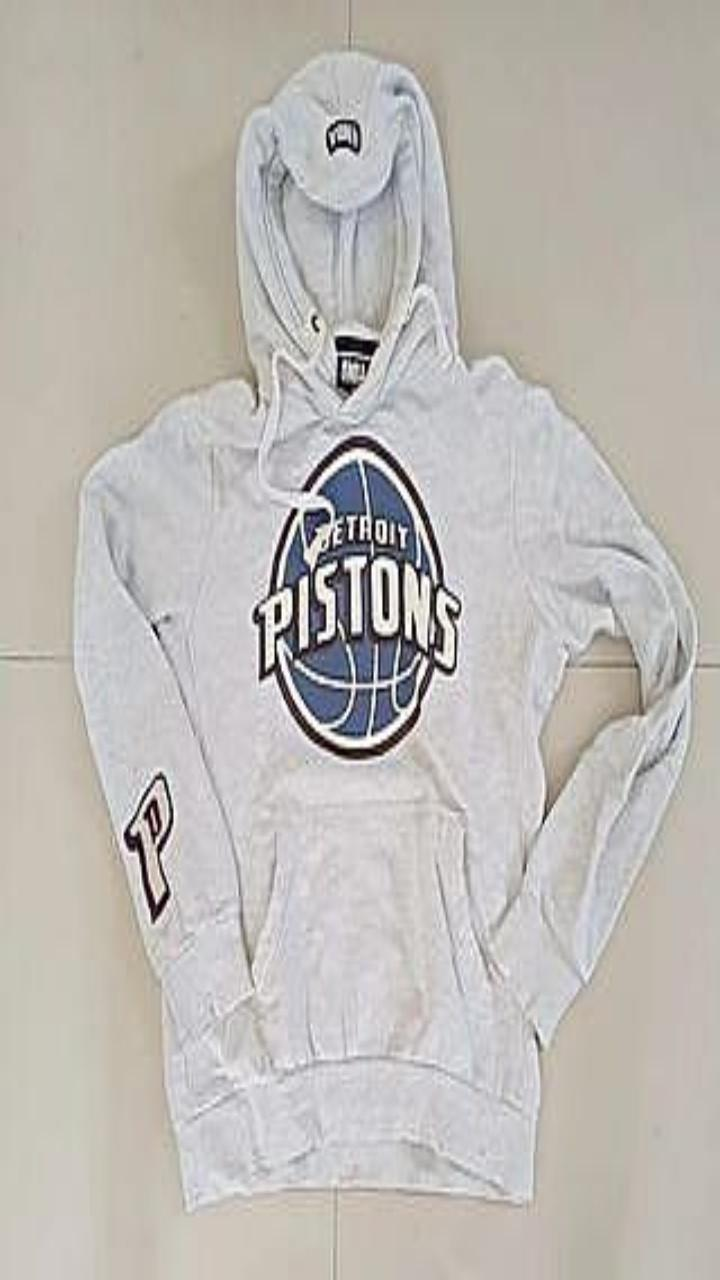Hoodie: (74, 51, 696, 1207)
